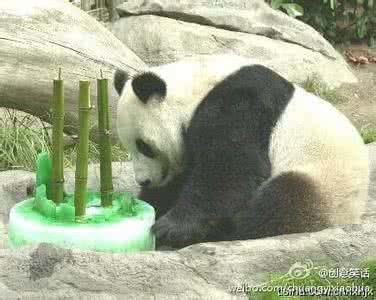panda: (107, 56, 372, 249)
